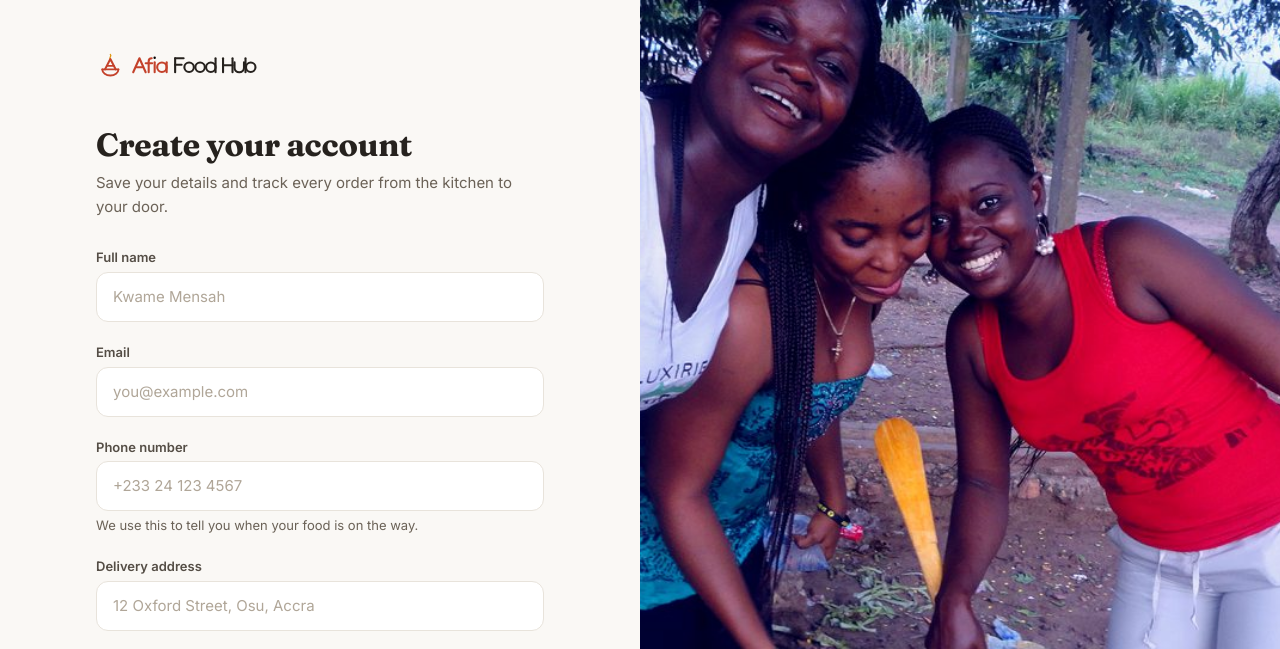
Test case: SignupPage › shows the reason the API gave when the account cannot be created
In the field labelled "Full name": x=320, y=297 [96,272,544,322], type "Test Customer"
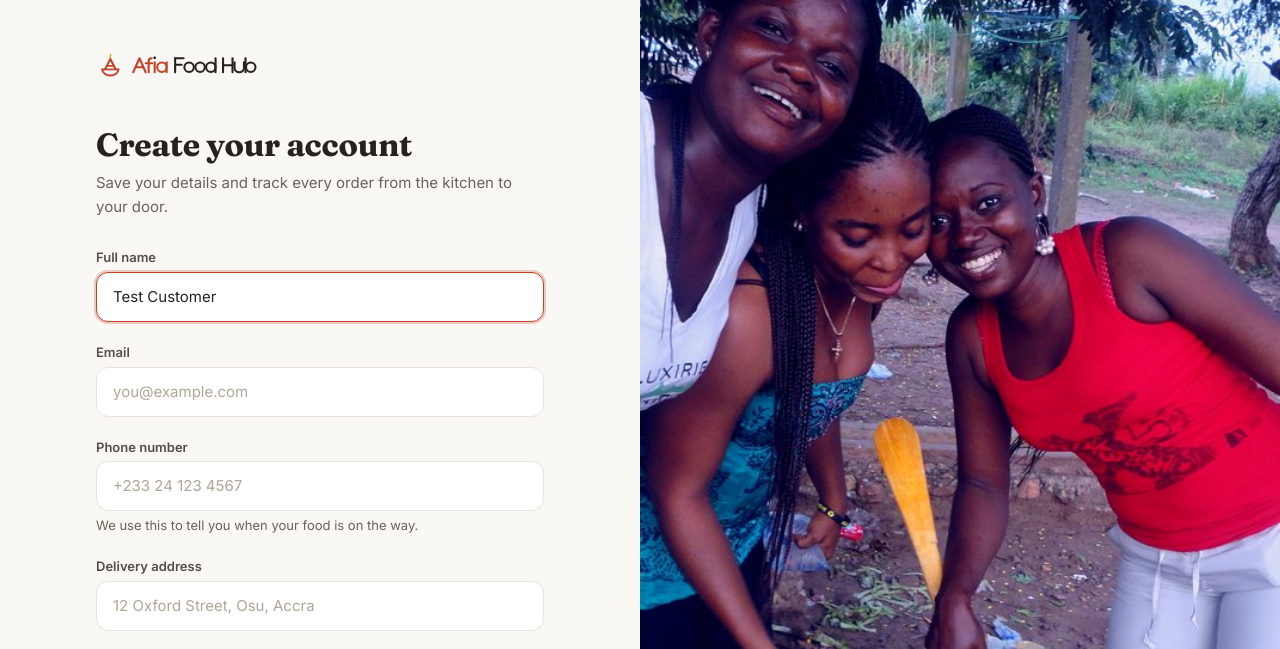
In the field labelled "Email": x=320, y=392 [96,367,544,417], type "customer@example.test"
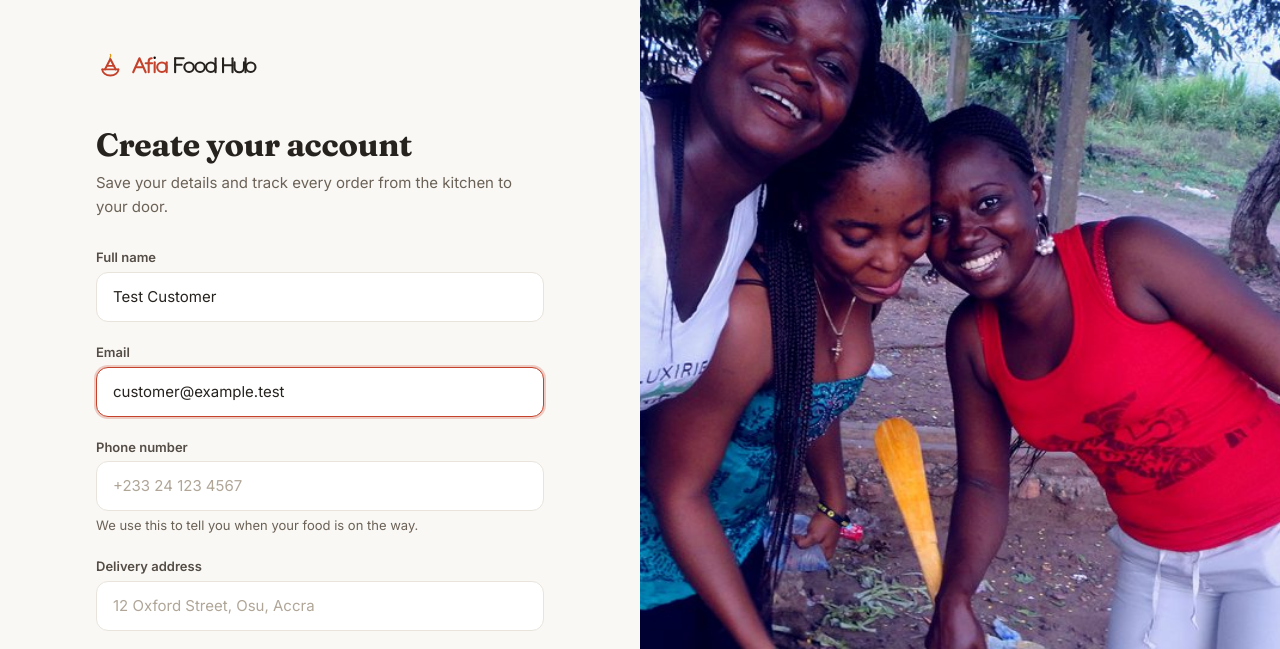
In the field labelled "Phone number": x=320, y=486 [96,461,544,511], type "0241234567"
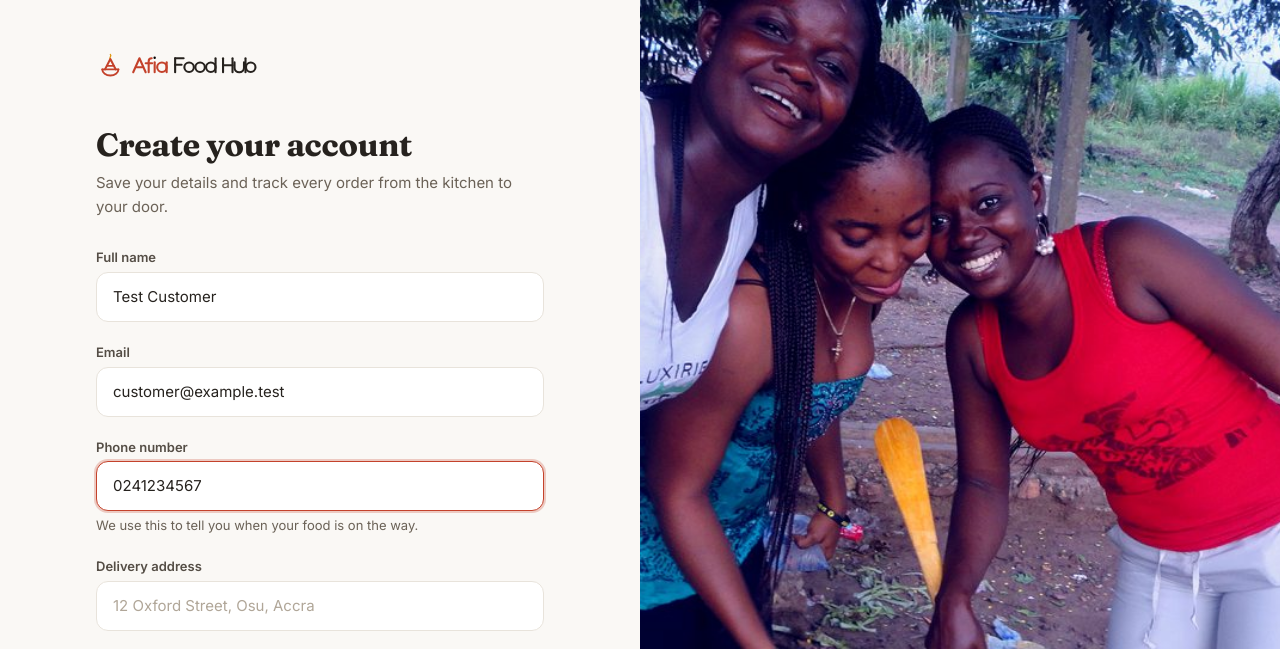
In the field labelled "Delivery address": x=320, y=606 [96,581,544,631], type "12 Oxford Street, Osu"
(page scrolled)
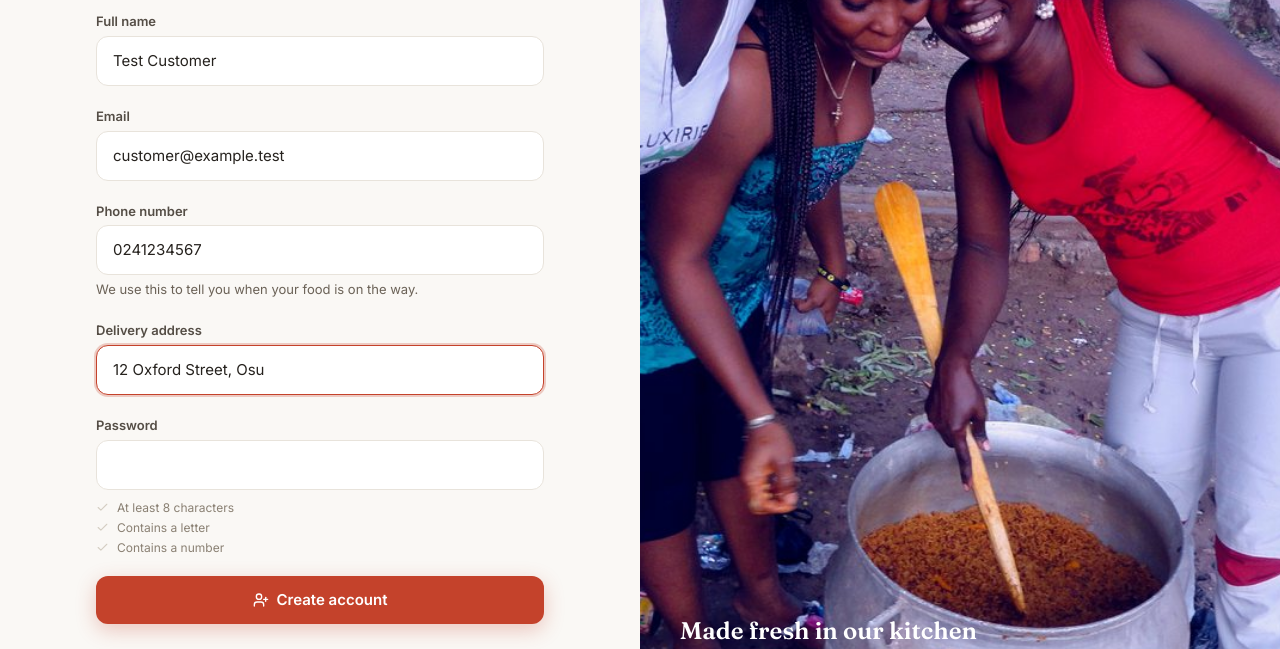
In the password field labelled "Password": x=320, y=465 [96,440,544,490], type "Password123"
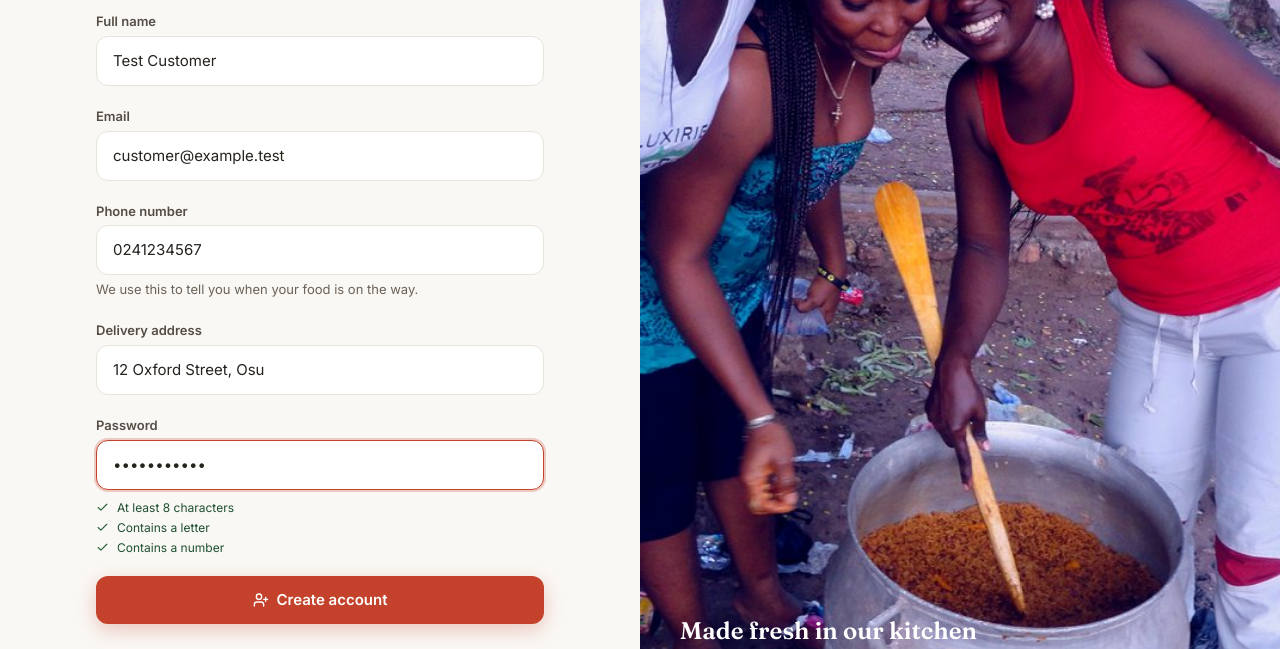
Click the button "Create account": x=320, y=600 [96,576,544,624]
(page scrolled)
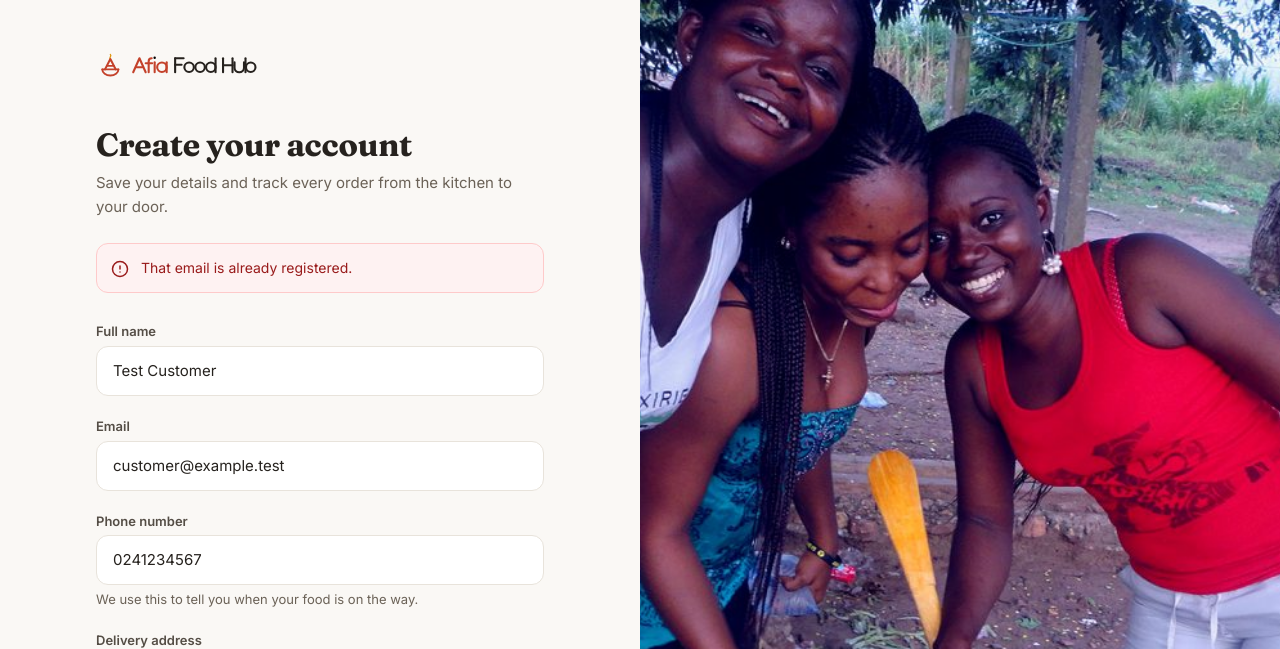
Now the message reads "That email is already registered.", box [141,259,352,276]
